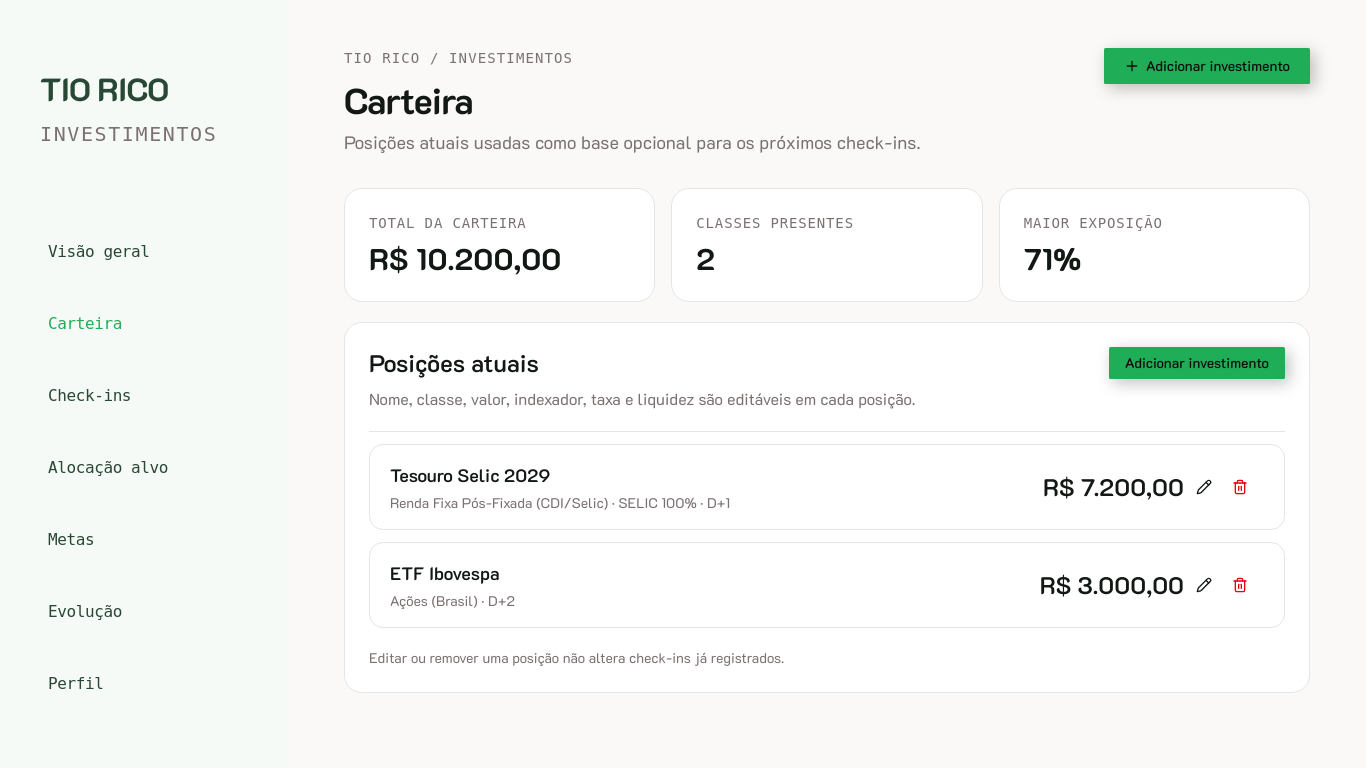
Scenario: Wallet (carteira) › mostra o erro da API quando a remoção falha e mantém o item
expect the list named "Investimentos atuais" is shown: met, box [369,444,1285,628]
Click the button named "Remover ETF Ibovespa" at [1248, 585], box [1232,569,1264,601]
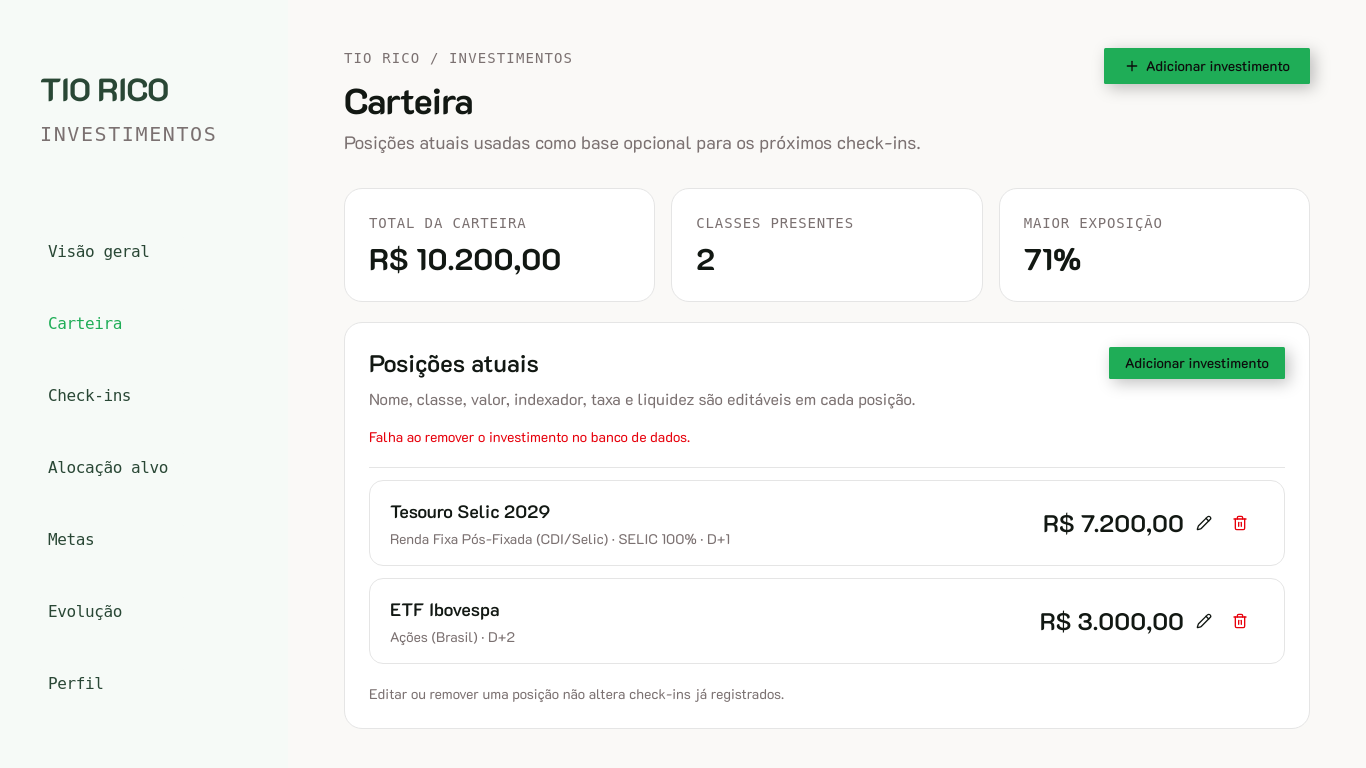
expect the heading "ETF Ibovespa" is shown: met, box [390,595,515,623]
expect the text "Falha ao remover o investimento no banco de dados." is shown: met, box [369,427,690,446]
